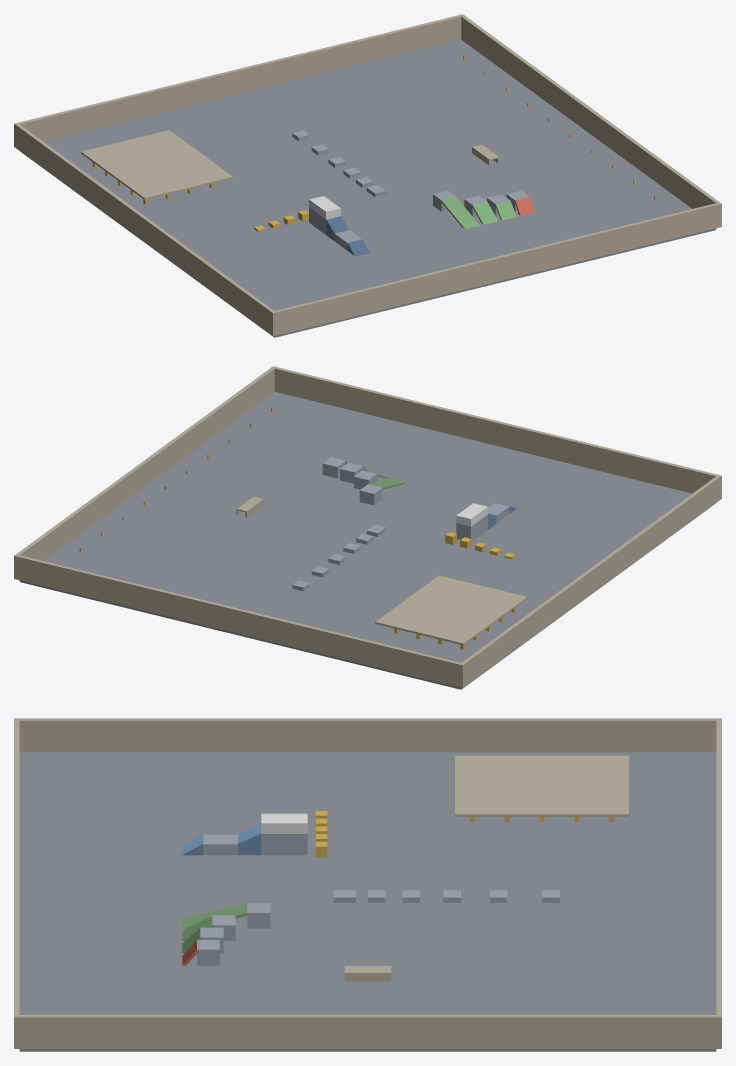
File: movement_sandbox.glb
The picture shows the model from 3 angles, top to bottom: view 1: azimuth 30°, elevation 25°; view 2: azimuth 150°, elevation 25°; view 3: azimuth 270°, elevation 25°; orthographic projection. The views are drawn at different scales.
Visible parts, largest first — view 1: floor, wall-s, wall-n, wall-w, wall-e, hall-ceiling, ramp-15; view 2: floor, wall-n, wall-s, wall-w, wall-e, hall-ceiling; view 3: floor, wall-w, wall-e, hall-ceiling, wall-n, wall-s, stairs-top, stairs-top_col_trigger, stairs-landing, ramp-15-top, ramp-15, ramp-50-top.
Boxes of the visible parts, x1,y1,x2,y2 form: floor: (20, 40, 716, 337); wall-s: (271, 202, 721, 336); wall-n: (14, 14, 464, 147); wall-w: (16, 124, 274, 334); wall-e: (461, 15, 719, 208); hall-ceiling: (81, 130, 232, 199); ramp-15: (441, 197, 479, 229); floor: (19, 392, 715, 689); wall-n: (14, 554, 464, 688); wall-s: (271, 366, 721, 499); wall-w: (461, 476, 719, 686); wall-e: (16, 367, 274, 560); hall-ceiling: (375, 575, 527, 645); floor: (19, 752, 716, 1051); wall-w: (19, 718, 716, 752); wall-e: (19, 1015, 716, 1048); hall-ceiling: (455, 755, 628, 816); wall-n: (716, 718, 721, 1048); wall-s: (14, 718, 19, 1048); stairs-top: (261, 834, 307, 855); stairs-top_col_trigger: (261, 813, 307, 833); stairs-landing: (203, 834, 237, 855); ramp-15-top: (247, 903, 270, 928); ramp-15: (182, 903, 247, 928); ramp-50-top: (197, 940, 219, 965).
Bounding box in the file's own units: 122 × 7.04 × 122.
